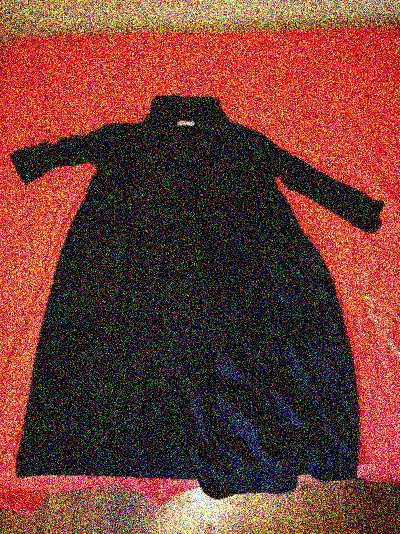Dress: (2, 87, 384, 490)
